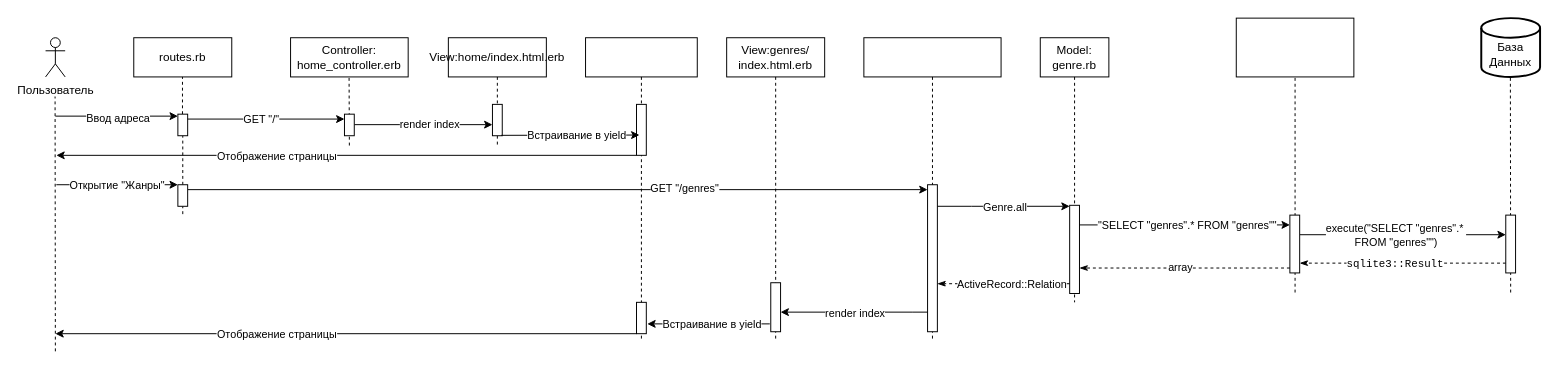
This 1557x369 diagram has some shape labels left out. The shapes that lost their labels are listed below. From the top down, each one's centre as x and y in pixels, then its label:
At pixel 1294 47: "ActiveRecord:: ConnectionAdapters:: SQLite3Adapter".
At pixel 641 189: "application.html.erb".
At pixel 932 189: "Controller: genres_controller.rb".
